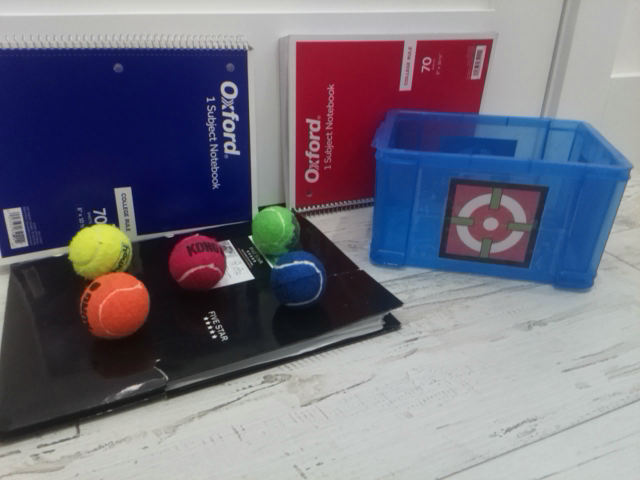blue-ball: (270, 249, 327, 310)
drop-bin: (438, 175, 549, 267)
green-ball: (251, 205, 301, 257)
orange-ball: (78, 272, 151, 340)
red-ball: (167, 233, 227, 293)
yellow-ball: (68, 223, 133, 281)
